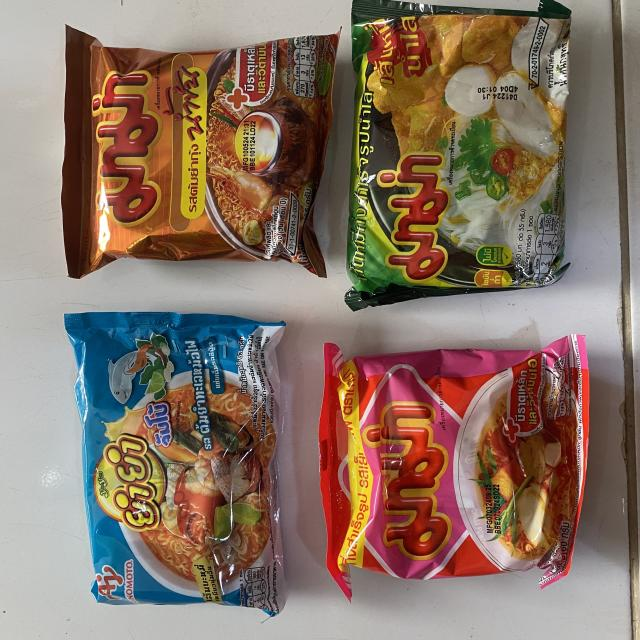plastik: (62, 27, 340, 279), (346, 0, 571, 311), (320, 336, 589, 596), (64, 312, 286, 616)
